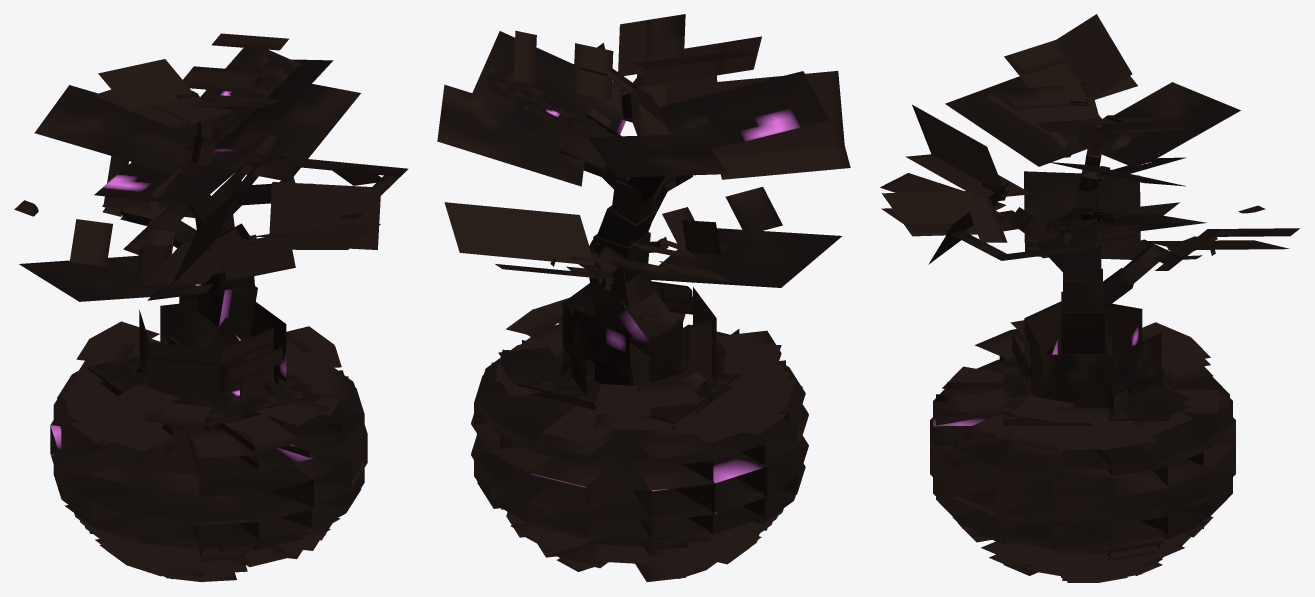
The model's file is sakura-bonsai-tree.fbx.
The picture shows the model from 3 angles, left to right: view 1: azimuth 30°, elevation 25°; view 2: azimuth 150°, elevation 25°; view 3: azimuth 270°, elevation 25°; orthographic projection. The views are drawn at different scales.
Parts seen in each view (by area): view 1: cube.076, cube.063, cube.059, Dirt.001, cube.067, cube.090, cube.077, cube.075, cube.083, cube.084, cube.081, cube.053 (+71 smaller); view 2: cube.077, cube.075, cube.074, cube.067, cube.063, cube.076, cube.056, Dirt.001, cube.089, cube.080, cube.053, cube.081 (+72 smaller); view 3: cube.076, cube.077, cube.067, cube.086, cube.083, cube.056, cube.079, cube.058, cube.080, Dirt.001, cube.087, cube.002 (+68 smaller).
Boxes of the visible parts, <box> form: cube.076: <box>34,85,197,168</box>; cube.063: <box>210,84,360,181</box>; cube.059: <box>269,182,381,249</box>; Dirt.001: <box>87,354,320,435</box>; cube.067: <box>19,255,207,301</box>; cube.090: <box>147,342,219,407</box>; cube.077: <box>94,162,237,205</box>; cube.075: <box>184,59,333,151</box>; cube.083: <box>98,59,191,111</box>; cube.084: <box>200,47,300,134</box>; cube.081: <box>183,33,288,92</box>; cube.053: <box>140,239,246,287</box>; cube.077: <box>657,71,829,149</box>; cube.075: <box>466,31,637,169</box>; cube.074: <box>444,202,594,265</box>; cube.067: <box>643,228,841,287</box>; cube.063: <box>437,84,584,186</box>; cube.076: <box>588,134,728,177</box>; cube.056: <box>709,71,844,157</box>; Dirt.001: <box>517,344,741,428</box>; cube.089: <box>649,318,712,385</box>; cube.080: <box>618,14,685,76</box>; cube.053: <box>714,145,850,179</box>; cube.081: <box>513,30,613,100</box>; cube.076: <box>1077,82,1240,165</box>; cube.077: <box>945,76,1092,166</box>; cube.067: <box>1024,171,1140,259</box>; cube.086: <box>1041,354,1113,412</box>; cube.083: <box>1055,14,1132,98</box>; cube.056: <box>912,104,1006,196</box>; cube.079: <box>1004,40,1137,104</box>; cube.058: <box>882,190,977,236</box>; cube.080: <box>1001,86,1101,123</box>; Dirt.001: <box>1003,353,1170,425</box>; cube.087: <box>1112,333,1161,395</box>; cube.002: <box>1061,291,1104,353</box>.
Bounding box in the file's own units: 32.09 × 46.12 × 36.25.
Materials: 6 (6 with a texture image).
